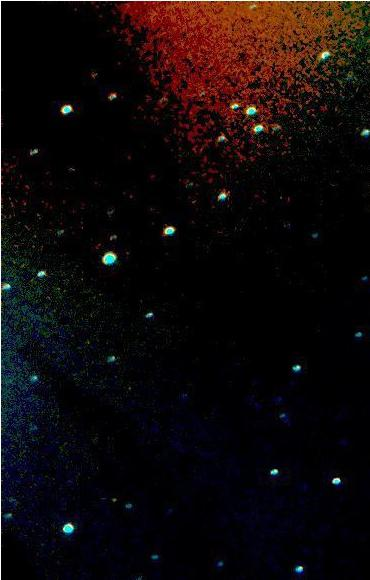star: (97, 484, 127, 514)
